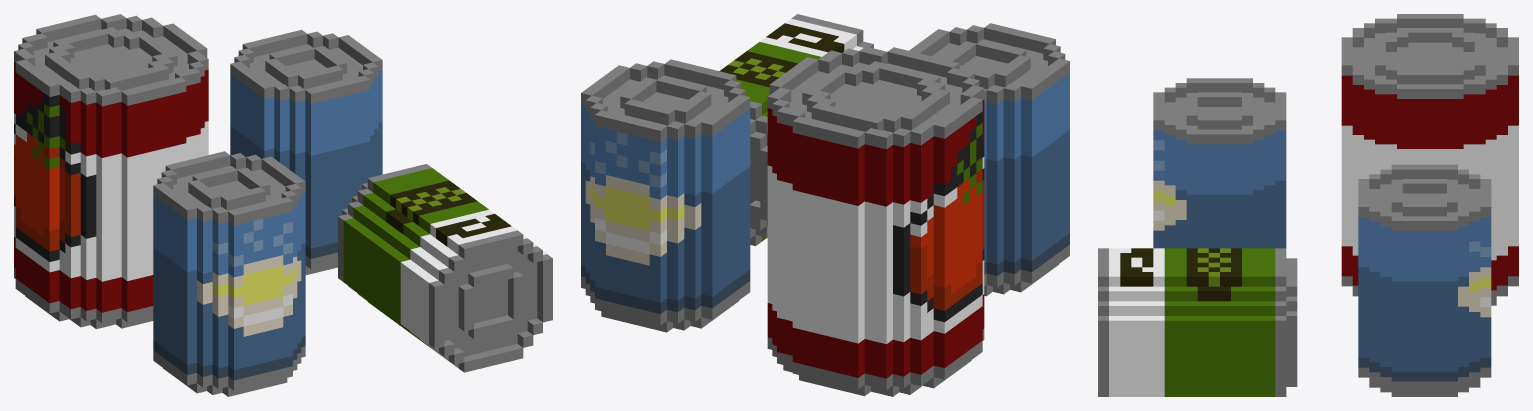
Rendered from soup-1-0.obj.
The picture shows the model from 3 angles, left to right: view 1: azimuth 30°, elevation 25°; view 2: azimuth 150°, elevation 25°; view 3: azimuth 270°, elevation 25°; orthographic projection. The views are drawn at different scales.
Parts seen in each view (by area): view 1: soup-1-0; view 2: soup-1-0; view 3: soup-1-0.
Boxes of the visible parts, box(x1,y1,x2,y2) form: soup-1-0: box(14, 14, 552, 396); soup-1-0: box(581, 14, 1069, 396); soup-1-0: box(1098, 14, 1518, 396).
Size of the model in its own units: 71 by 46 by 76.
1 material, 1 textured.
